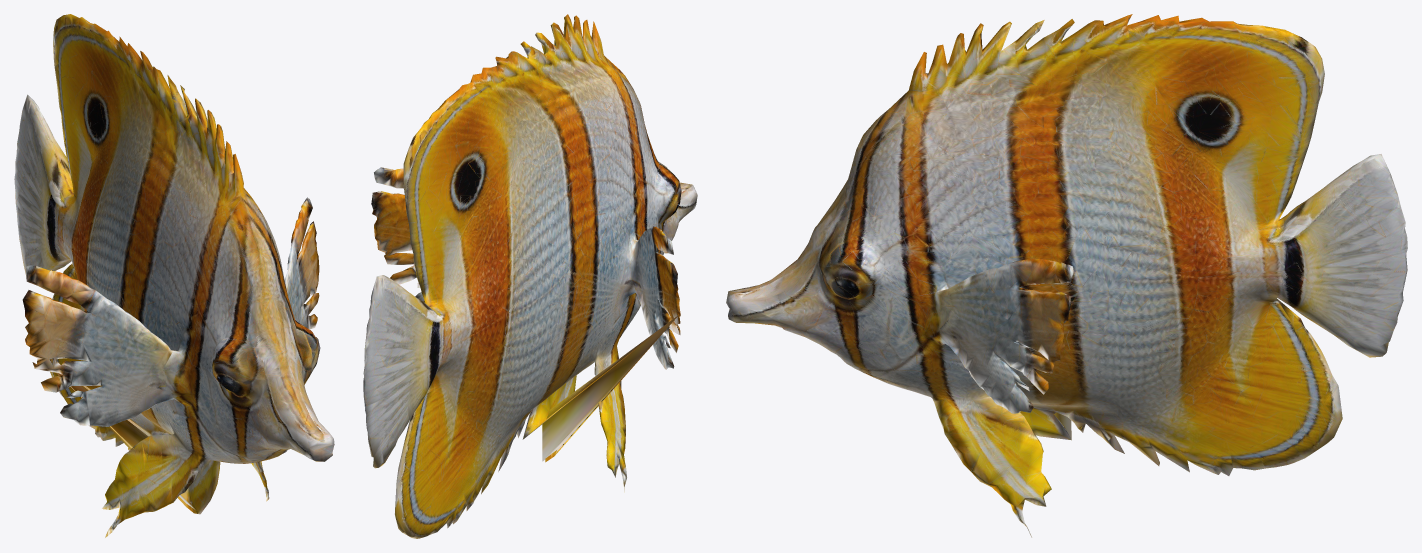
File: fish_copperband.glb
The picture shows the model from 3 angles, left to right: view 1: azimuth 30°, elevation 25°; view 2: azimuth 150°, elevation 25°; view 3: azimuth 270°, elevation 25°; orthographic projection. The views are drawn at different scales.
Visible parts, largest first — view 1: geometry_0; view 2: geometry_0; view 3: geometry_0.
Part boxes in pixels (x1,y1,x2,y2): geometry_0: (14, 14, 334, 538); geometry_0: (363, 14, 697, 538); geometry_0: (726, 14, 1407, 537).
Bounding box in the file's own units: 1.07 × 1.53 × 1.96.
Materials: 1 (1 with a texture image).
